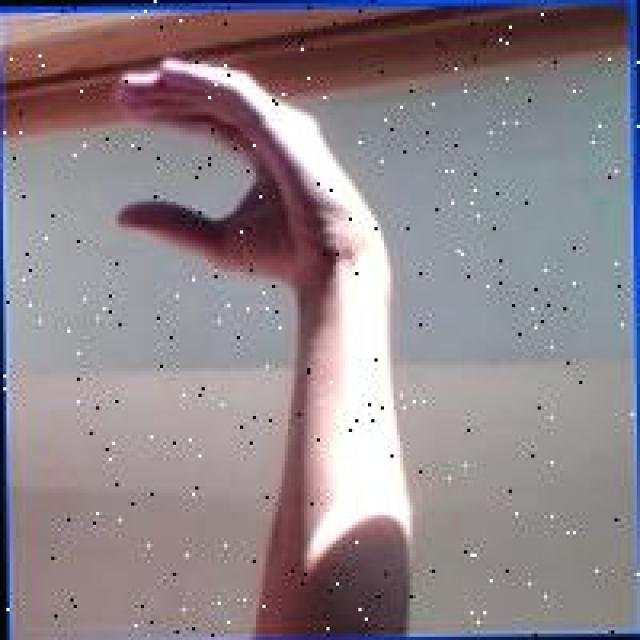C: (110, 53, 392, 283)
